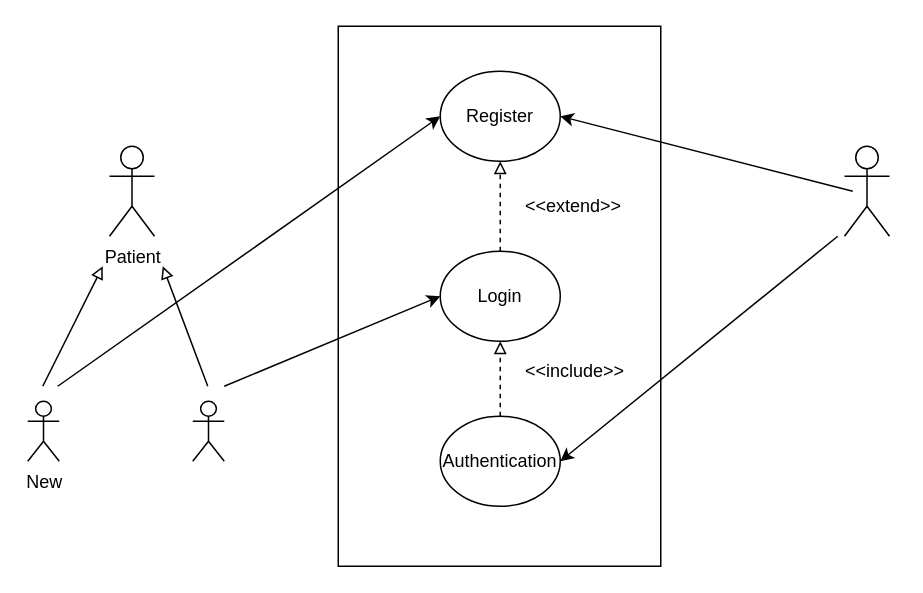
Some shapes in this 923 by 593 pixel diagram are drawn without their labels. The centre of each missing label's shape, as x and y in pixels:
"Existing" belongs at (x=207, y=430).
"System" belongs at (x=866, y=190).
